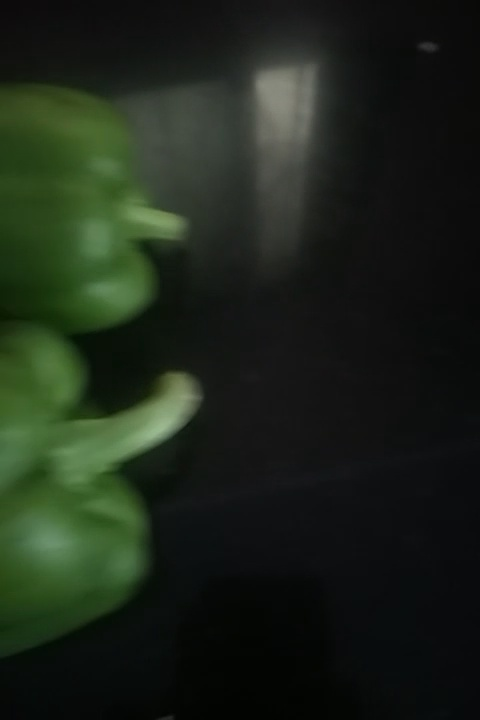capsicum: (1, 335, 174, 659), (1, 86, 165, 346)
